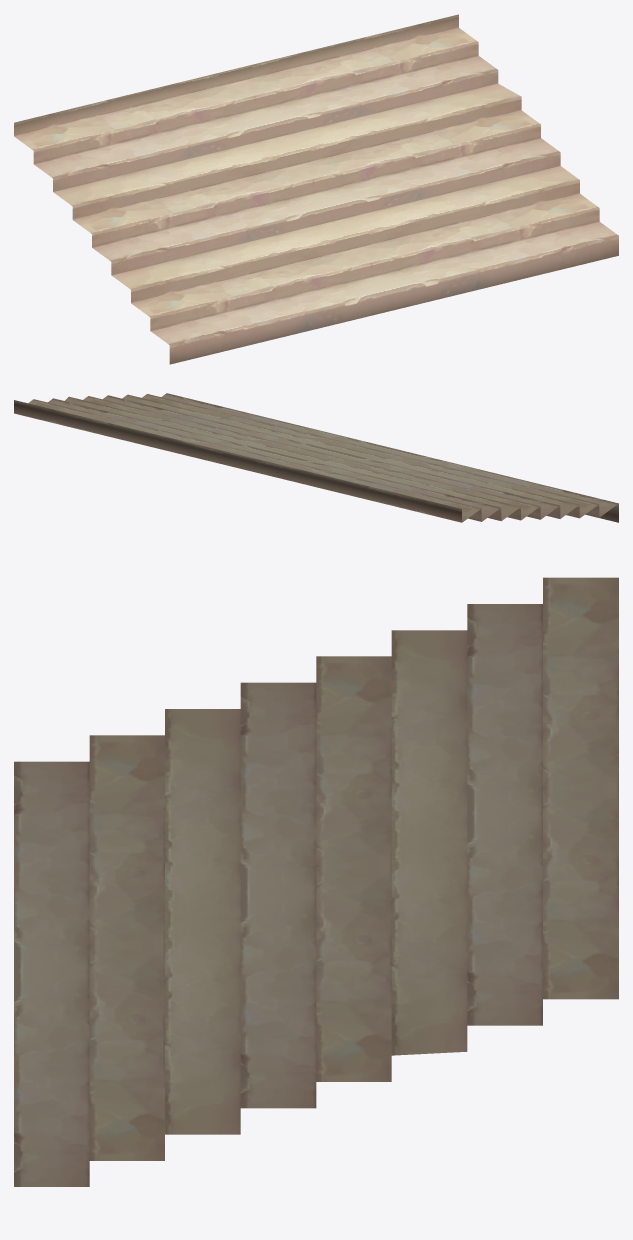
The model's file is fb_csd_zj_27.FBX.
3 views of the same model, one above another, from view 1: azimuth 30°, elevation 25°; view 2: azimuth 150°, elevation 25°; view 3: azimuth 270°, elevation 25° (orthographic). The views are drawn at different scales.
Visible parts, largest first — view 1: fb_jjc_zj_07_e; view 2: fb_jjc_zj_07_e; view 3: fb_jjc_zj_07_e.
Part boxes in pixels (<box>): fb_jjc_zj_07_e: <box>14,14,618,364</box>; fb_jjc_zj_07_e: <box>14,393,618,522</box>; fb_jjc_zj_07_e: <box>14,577,618,1186</box>.
Bounding box in the file's own units: 1023 × 280 × 615.
Materials: 1 (1 with a texture image).
